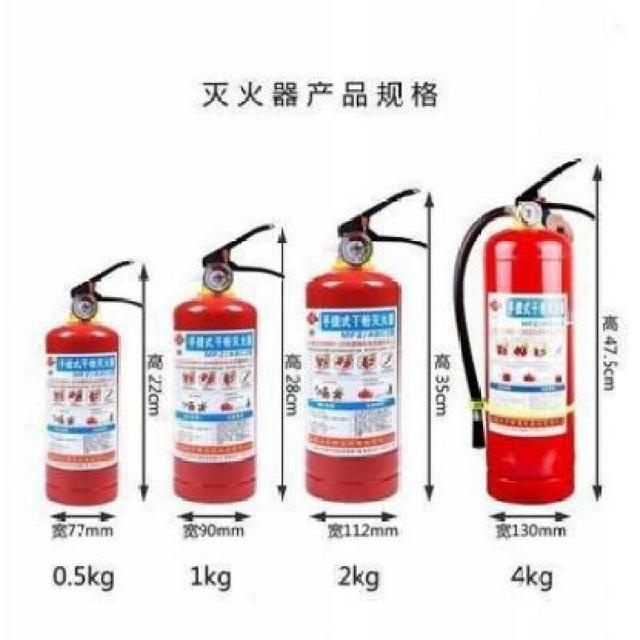fire extinguisher: (452, 157, 596, 508), (304, 188, 428, 503), (172, 223, 285, 503), (46, 259, 146, 507)
